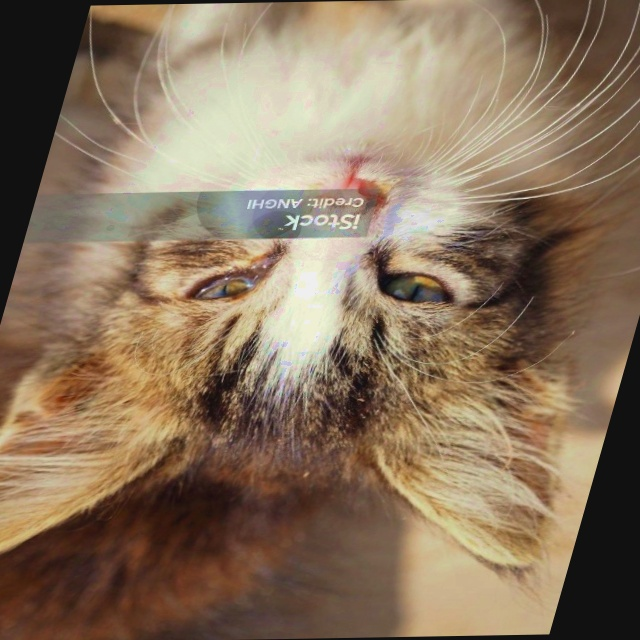eye_infection: (189, 262, 271, 300)
